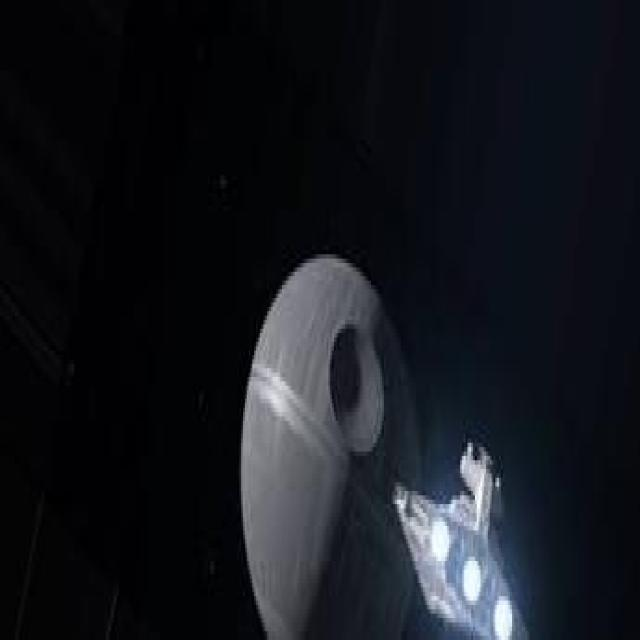deathstar: (241, 256, 417, 640)
